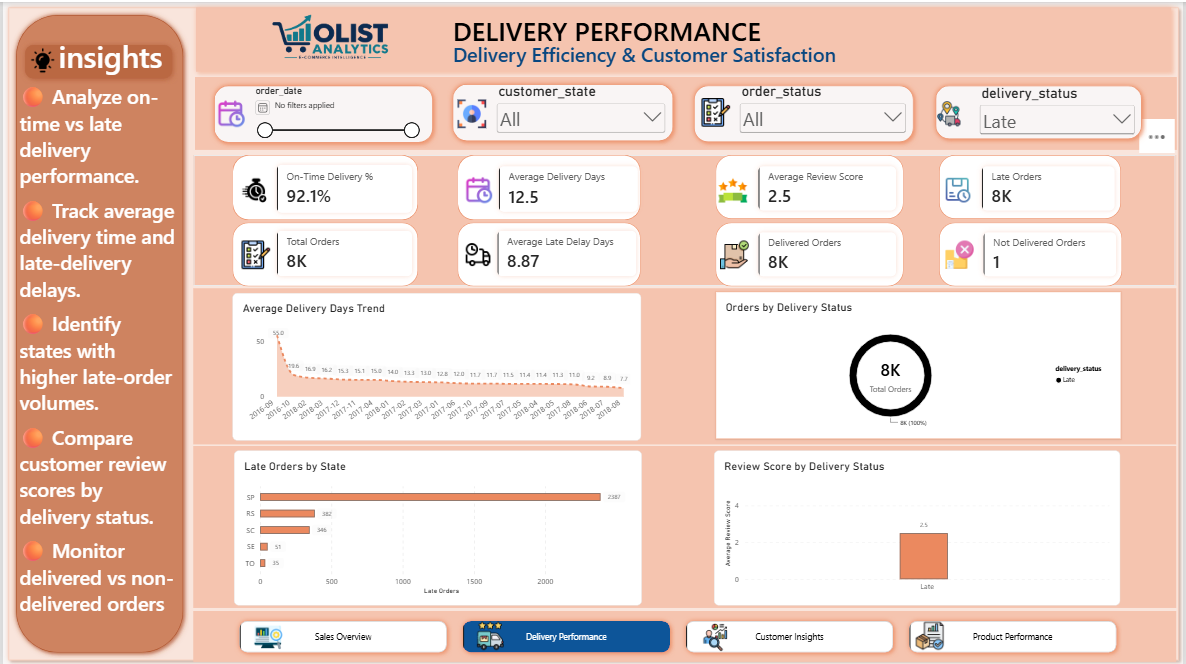

The dashboard page shown, as its layout file describes it:
{"tool":"powerbi","page":{"name":"Delivery Performance","canvas":[1920,1080],"ordinal":1},"visuals":[{"type":"shape","box":[0,0,1921,1079.8],"z":0},{"type":"shape","box":[304,0,1604,122],"z":1000},{"type":"textbox","box":[732,16.6,755.2,66.2],"z":2000},{"type":"textbox","box":[732,62.9,745.2,59.6],"z":3000},{"type":"shape","box":[311.7,121.7,1596.7,118.3],"z":4000},{"type":"shape","box":[310,250,1598.3,211.7],"z":5000},{"type":"shape","box":[310,466.7,1598.3,253.3],"z":6000},{"type":"shape","box":[310,723.3,1598.3,263.3],"z":7000},{"type":"shape","box":[310,990,1598.3,82.5],"z":8000},{"type":"shape","box":[374,250,302,106],"z":9000},{"type":"shape","box":[374,358,302,104],"z":10000},{"type":"shape","box":[740,250,298,106],"z":11000},{"type":"shape","box":[740,358,298,104],"z":12000},{"type":"shape","box":[1158,250,306,104],"z":13000},{"type":"shape","box":[1158,358,306,104],"z":14000},{"type":"shape","box":[1522,250,296,104],"z":15000},{"type":"shape","box":[1522,358,298,104],"z":16000},{"type":"cardVisual","fields":{"Data":["Ecommerce.On-Time Delivery %"]},"box":[434,254,242,100],"z":17000},{"type":"cardVisual","fields":{"Data":["Ecommerce.Total Orders"]},"box":[434,362,242,96],"z":18000},{"type":"cardVisual","fields":{"Data":["Ecommerce.Average Late Delay Days"]},"box":[792,362,248,96],"z":19000},{"type":"cardVisual","fields":{"Data":["Ecommerce.Delivered Orders"]},"box":[1218,364,246,94],"z":20000},{"type":"cardVisual","fields":{"Data":["Ecommerce.Not Delivered Orders"]},"box":[1584,364,238,94],"z":21000},{"type":"lineChart","title":"Average Delivery Days Trend","fields":{"Category":["Ecommerce.order_month"],"Y":["Ecommerce.Average Delivery Days"]},"box":[373.6,472.7,664.5,240],"z":22000},{"type":"donutChart","title":"Orders by Delivery Status","fields":{"Category":["Ecommerce.delivery_status"],"Y":["Ecommerce.Total Orders"]},"box":[1158.3,471.7,660,240],"z":23000},{"type":"clusteredBarChart","title":"Late Orders by State","fields":{"Category":["Ecommerce.customer_state"],"Y":["Ecommerce.Late Orders"]},"box":[375,728.3,663.3,251.7],"z":24000},{"type":"clusteredColumnChart","title":"Review Score by Delivery Status","fields":{"Category":["Ecommerce.delivery_status"],"Y":["Ecommerce.Average Review Score"]},"box":[1157.5,728.3,660.8,251.7],"z":25000},{"type":"pageNavigator","box":[375,997.5,1445,69.2],"z":26000},{"type":"image","box":[400.8,1010.2,62.9,46.4],"z":27000},{"type":"image","box":[761.8,1006.9,62.9,46.4],"z":28000},{"type":"image","box":[1126.1,1010.2,62.9,46.4],"z":29000},{"type":"image","box":[1477.2,1006.9,62.9,46.4],"z":30000},{"type":"image","box":[378,284,61.7,46.7],"z":31000},{"type":"image","box":[742,282,62,46],"z":32000},{"type":"image","box":[1156,284,61.7,46.7],"z":33000},{"type":"image","box":[1522,284,62,46],"z":34000},{"type":"image","box":[380,388,61.7,46.7],"z":35000},{"type":"image","box":[742,388,62,46],"z":36000},{"type":"image","box":[1158,388,61.7,46.7],"z":37000},{"type":"image","box":[1524,388,62,46],"z":38000},{"type":"shape","box":[335,126,373.8,110.8],"z":39000},{"type":"shape","box":[723,125,376.9,110.8],"z":40000},{"type":"shape","box":[1116,126,375,110],"z":41000},{"type":"shape","box":[1509,128,353.3,105],"z":42000},{"type":"slicer","fields":{"Values":["Ecommerce.customer_state"]},"box":[798,132,284,96],"z":43000},{"type":"slicer","fields":{"Values":["Ecommerce.order_status"]},"box":[1194,132,280,104],"z":44000},{"type":"slicer","fields":{"Values":["Ecommerce.delivery_status"]},"box":[1584,134,262,104],"z":45000},{"type":"image","box":[340,158,61.7,46.7],"z":46000},{"type":"image","box":[731.7,158.3,61.7,46.7],"z":47000},{"type":"image","box":[1131.7,156.7,55,46.7],"z":48000},{"type":"image","box":[1508.3,158.3,61.7,46.7],"z":49000},{"type":"cardVisual","fields":{"Data":["Ecommerce.Late Orders"]},"box":[1580,255.5,238,94],"z":50000},{"type":"cardVisual","fields":{"Data":["Ecommerce.Average Review Score"]},"box":[1218.2,256.4,246,94],"z":51000},{"type":"cardVisual","fields":{"Data":["Ecommerce.Average Delivery Days"]},"box":[794.4,256.7,248,96],"z":52000},{"type":"slicer","fields":{"Values":["Ecommerce.order_date"]},"box":[401.7,133.3,278.3,95],"z":53000},{"type":"image","box":[313.3,0,440,113.3],"z":54000},{"type":"shape","box":[12.5,12.5,290,1055],"z":55000},{"type":"shape","box":[27.5,60,257.5,72.5],"z":56000},{"type":"image","box":[44.4,60,41.1,67.8],"z":57000},{"type":"textbox","box":[90,56.7,176.7,78.7],"z":58000},{"type":"textbox","box":[27.5,132.5,257.5,877.5],"z":59000}]}

Visuals, with their boxes in screenshot pixels (x1, y1, x2, y2), scaled from the page's 1920x1080 canvas onto the 1186x664 screenshot:
shape: (0, 0, 1185, 663)
shape: (188, 0, 1179, 75)
textbox: (452, 10, 919, 51)
textbox: (452, 39, 912, 75)
shape: (193, 75, 1179, 148)
shape: (191, 154, 1179, 284)
shape: (191, 287, 1179, 443)
shape: (191, 445, 1179, 607)
shape: (191, 609, 1179, 659)
shape: (231, 154, 418, 219)
shape: (231, 220, 418, 284)
shape: (457, 154, 641, 219)
shape: (457, 220, 641, 284)
shape: (715, 154, 904, 218)
shape: (715, 220, 904, 284)
shape: (940, 154, 1123, 218)
shape: (940, 220, 1124, 284)
cardVisual - Ecommerce.On-Time Delivery %: (268, 156, 418, 218)
cardVisual - Ecommerce.Total Orders: (268, 223, 418, 282)
cardVisual - Ecommerce.Average Late Delay Days: (489, 223, 642, 282)
cardVisual - Ecommerce.Delivered Orders: (752, 224, 904, 282)
cardVisual - Ecommerce.Not Delivered Orders: (978, 224, 1125, 282)
"Average Delivery Days Trend" lineChart: (231, 291, 641, 438)
"Orders by Delivery Status" donutChart: (715, 290, 1123, 438)
"Late Orders by State" clusteredBarChart: (232, 448, 641, 603)
"Review Score by Delivery Status" clusteredColumnChart: (715, 448, 1123, 603)
pageNavigator: (232, 613, 1124, 656)
image: (248, 621, 286, 650)
image: (471, 619, 509, 648)
image: (696, 621, 734, 650)
image: (912, 619, 951, 648)
image: (233, 175, 272, 203)
image: (458, 173, 497, 202)
image: (714, 175, 752, 203)
image: (940, 175, 978, 203)
image: (235, 239, 273, 267)
image: (458, 239, 497, 267)
image: (715, 239, 753, 267)
image: (941, 239, 980, 267)
shape: (207, 77, 438, 146)
shape: (447, 77, 679, 145)
shape: (689, 77, 921, 145)
shape: (932, 79, 1150, 143)
slicer - Ecommerce.customer_state: (493, 81, 668, 140)
slicer - Ecommerce.order_status: (738, 81, 911, 145)
slicer - Ecommerce.delivery_status: (978, 82, 1140, 146)
image: (210, 97, 248, 126)
image: (452, 97, 490, 126)
image: (699, 96, 733, 125)
image: (932, 97, 970, 126)
cardVisual - Ecommerce.Late Orders: (976, 157, 1123, 215)
cardVisual - Ecommerce.Average Review Score: (752, 158, 904, 215)
cardVisual - Ecommerce.Average Delivery Days: (491, 158, 644, 217)
slicer - Ecommerce.order_date: (248, 82, 420, 140)
image: (194, 0, 465, 70)
shape: (8, 8, 187, 656)
shape: (17, 37, 176, 81)
image: (27, 37, 53, 79)
textbox: (56, 35, 165, 83)
textbox: (17, 81, 176, 621)
